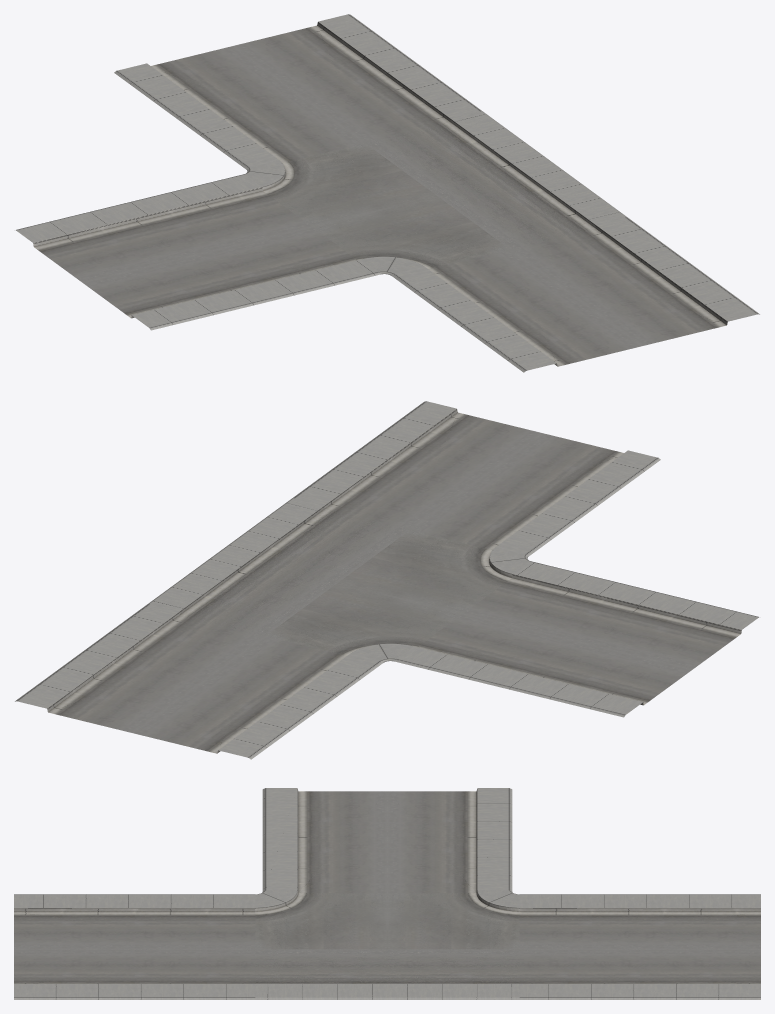
Rendered from Street_T_Intersection.FBX.
3 renders of one model, top to bottom at view 1: azimuth 30°, elevation 25°; view 2: azimuth 150°, elevation 25°; view 3: azimuth 270°, elevation 25°, orthographic. The views are drawn at different scales.
Visible parts, largest first — view 1: Street_T_Intersection; view 2: Street_T_Intersection; view 3: Street_T_Intersection.
Boxes of the visible parts, x1,y1,x2,y2 form: Street_T_Intersection: (16, 14, 759, 372); Street_T_Intersection: (15, 401, 758, 759); Street_T_Intersection: (14, 788, 760, 999).
Size of the model in its own units: 26.2 by 0.1905 by 39.28.
